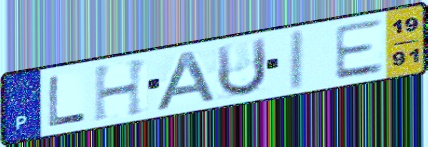A: (153, 49, 220, 113)
E: (332, 17, 386, 83)
H: (91, 55, 151, 124)
I: (286, 27, 308, 94)
L: (46, 73, 88, 129)
U: (213, 35, 269, 100)
